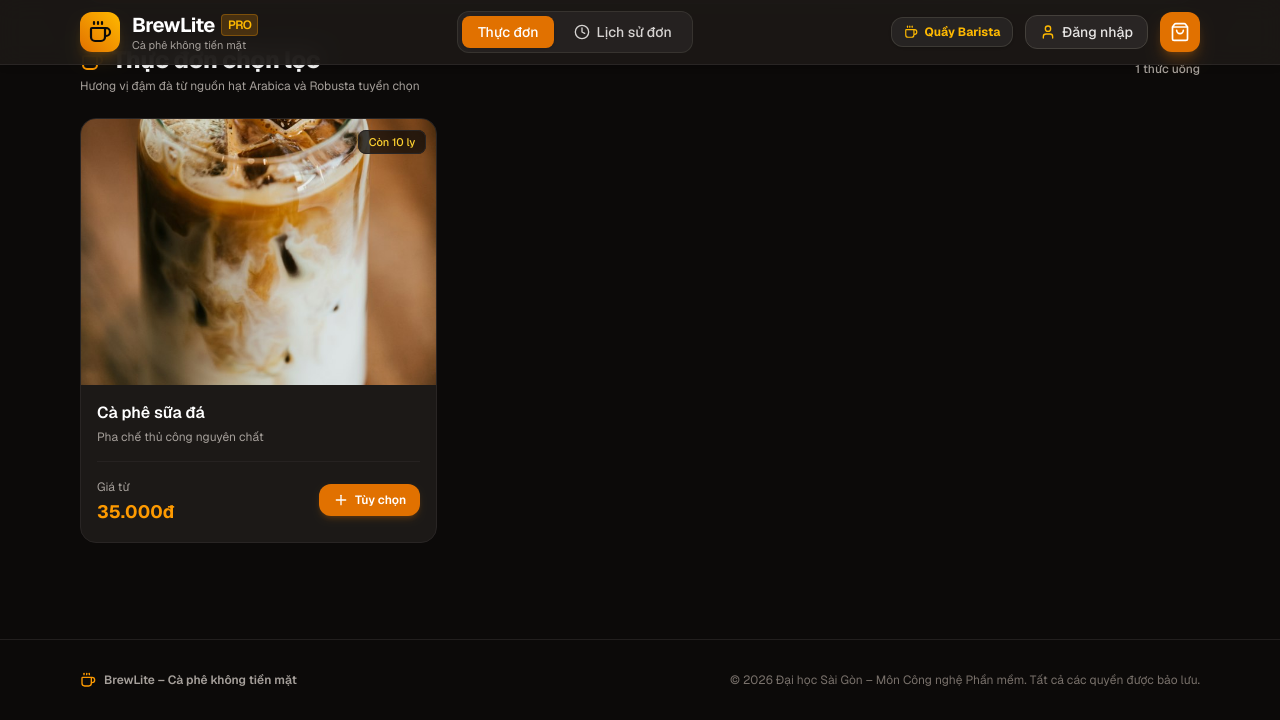
Test: luồng menu → chi tiết → giỏ hàng (Task 3, 4, 5) › sửa số lượng và xóa món trong giỏ
The image size is (1280, 720).
(page scrolled)
Click the button "Tùy chọn".
click(370, 500)  # box 319,484 -> 420,516
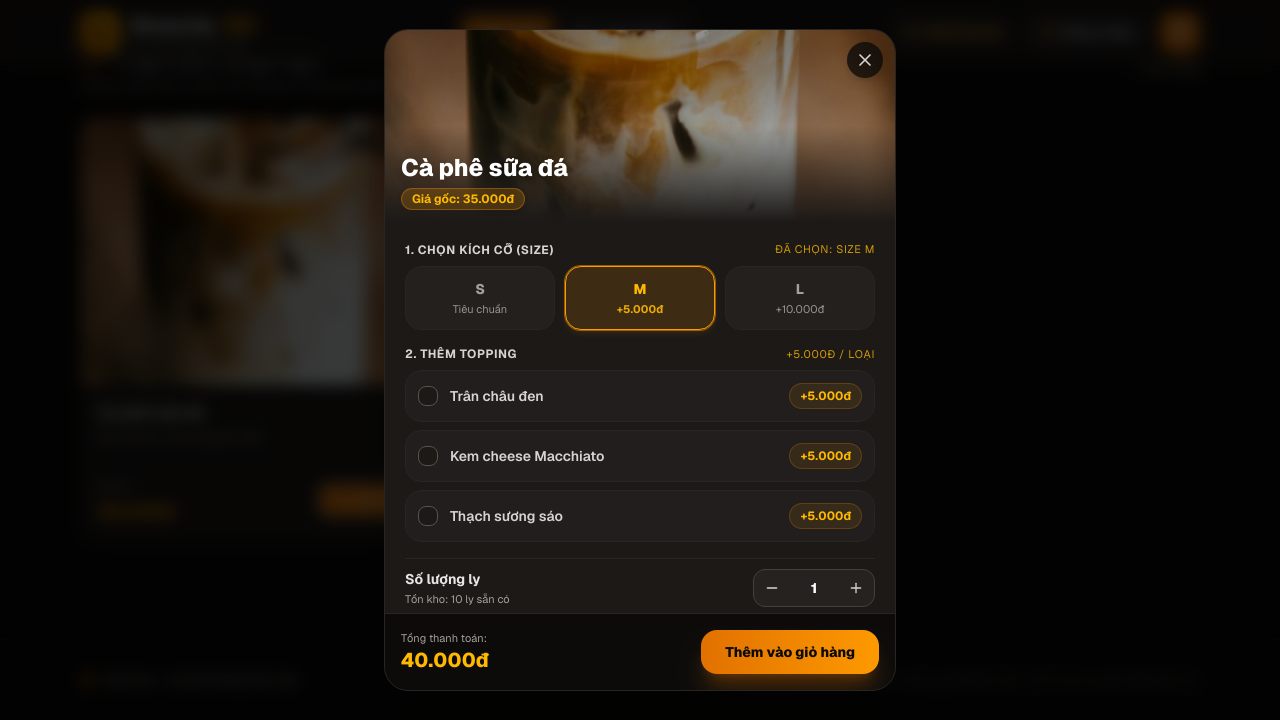
Click the checkbox labelled "Trân châu đen +5.000đ".
click(497, 396)  # box 405,370 -> 875,422
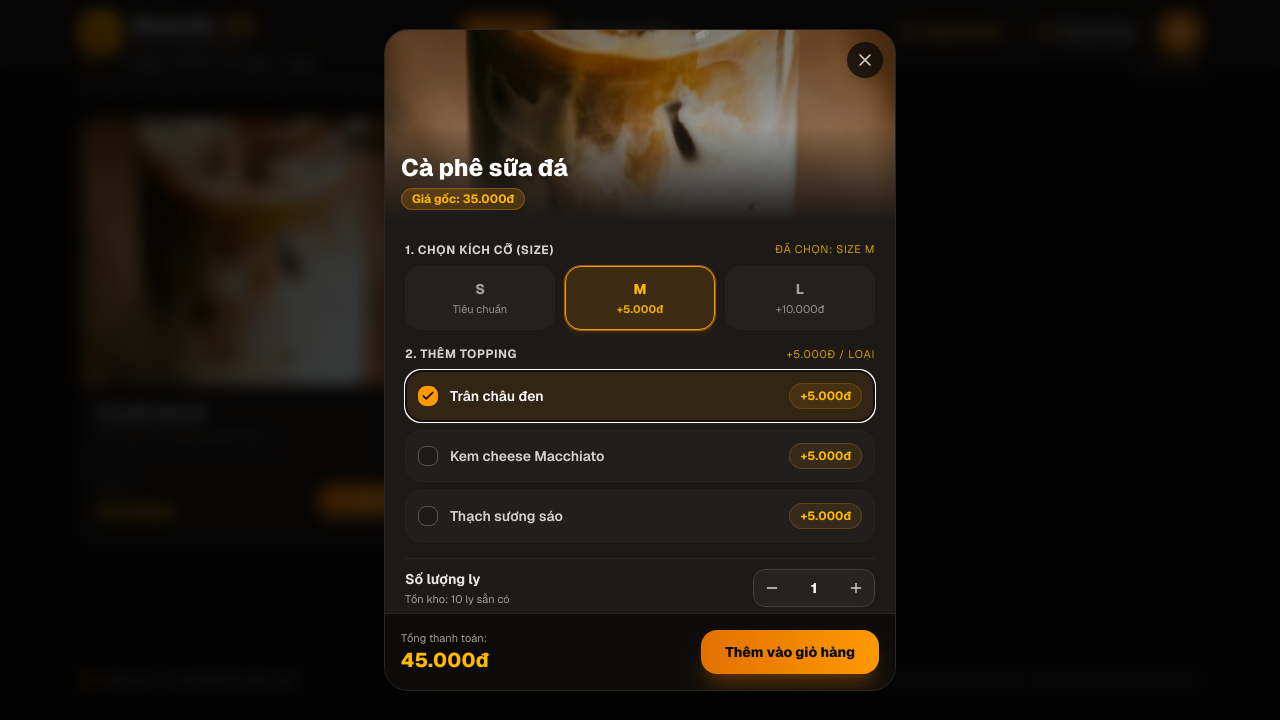
Click the button "Thêm vào giỏ hàng".
click(790, 652)  # box 701,630 -> 879,674
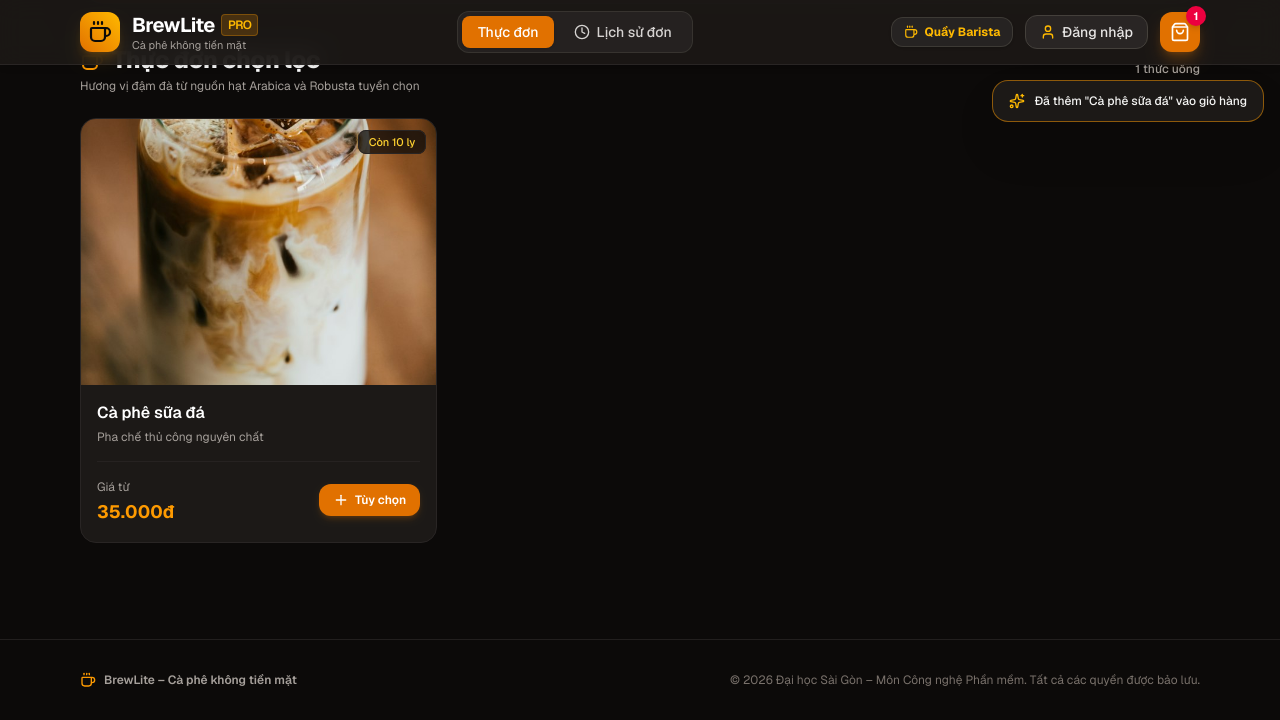
Click the button named "Xem giỏ hàng".
click(1180, 32)  # box 1160,12 -> 1200,52
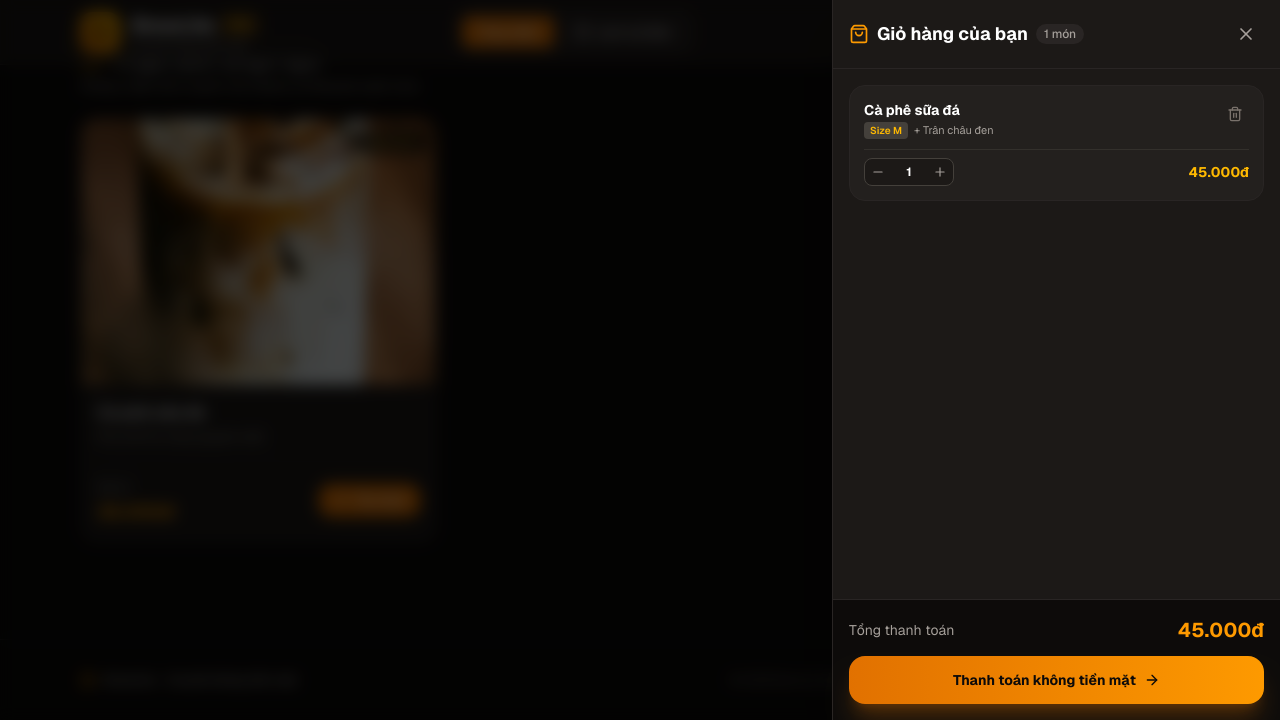
Click the button named "Tăng số lượng Cà phê sữa đá".
click(940, 172)  # box 929,161 -> 951,183
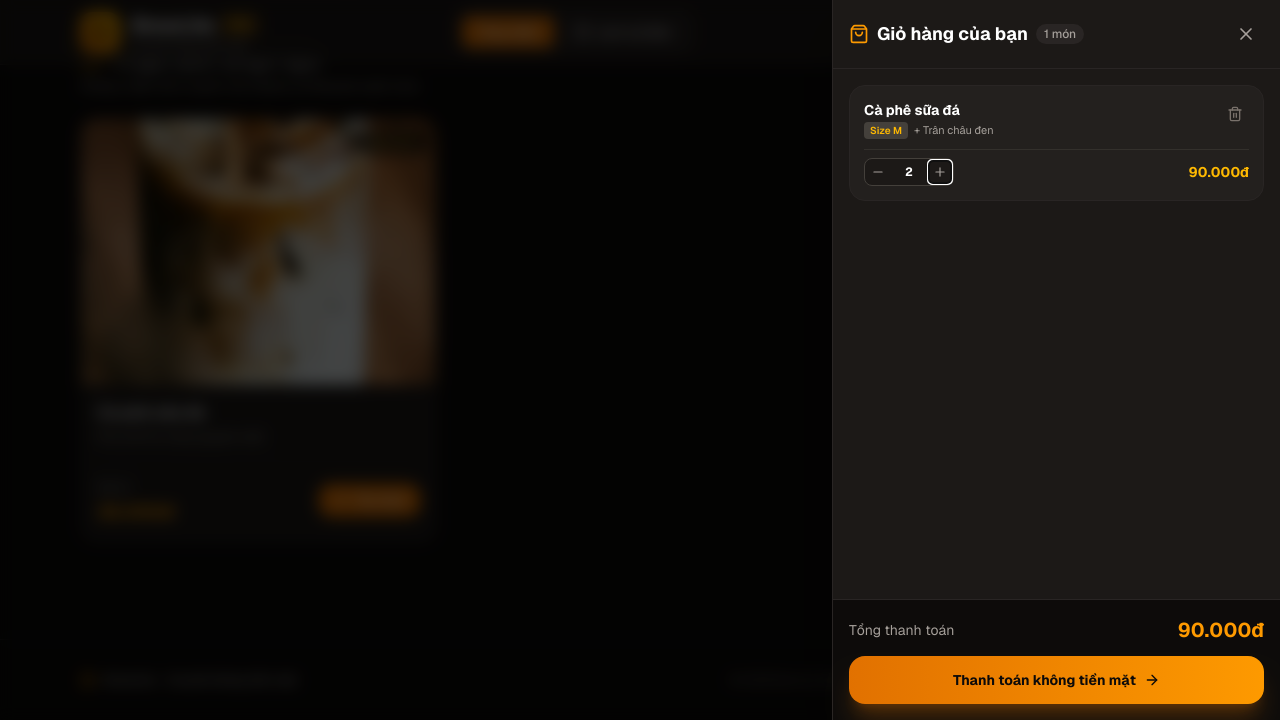
Click the button named "Xóa Cà phê sữa đá".
click(1235, 114)  # box 1221,100 -> 1249,128
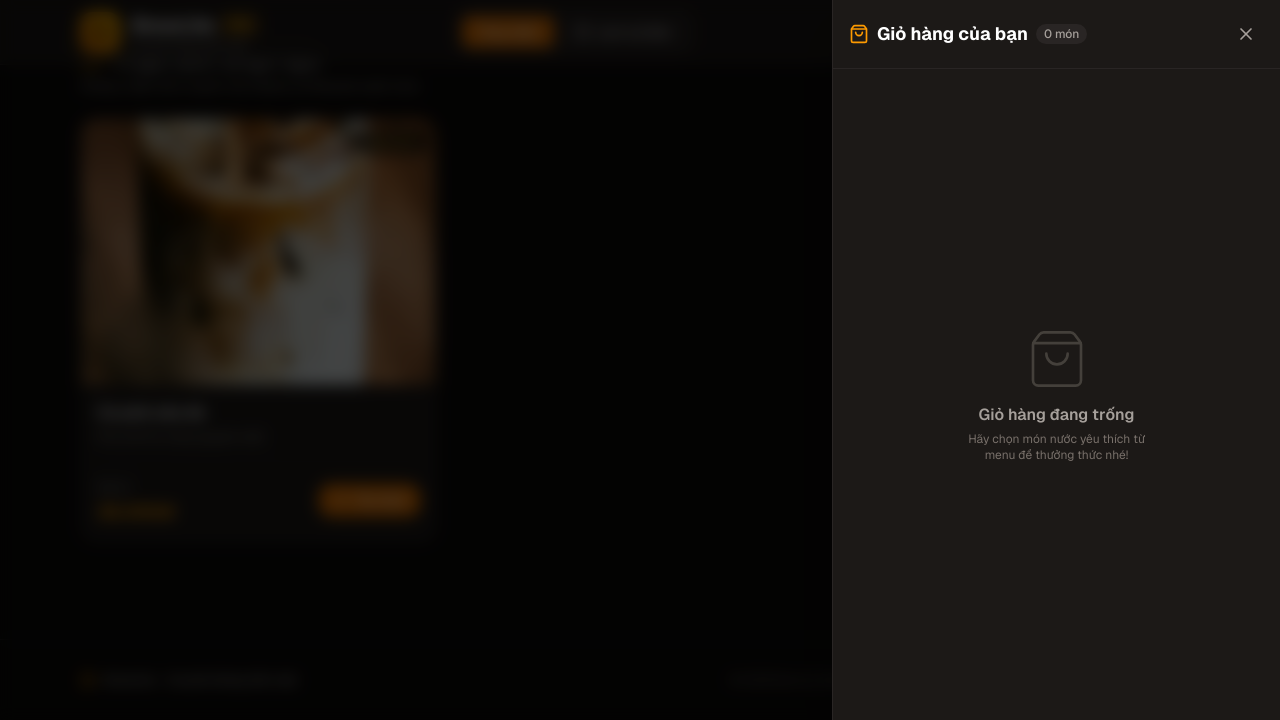
Expected: the text "Giỏ hàng đang trống" is shown, 979,402 -> 1134,426
